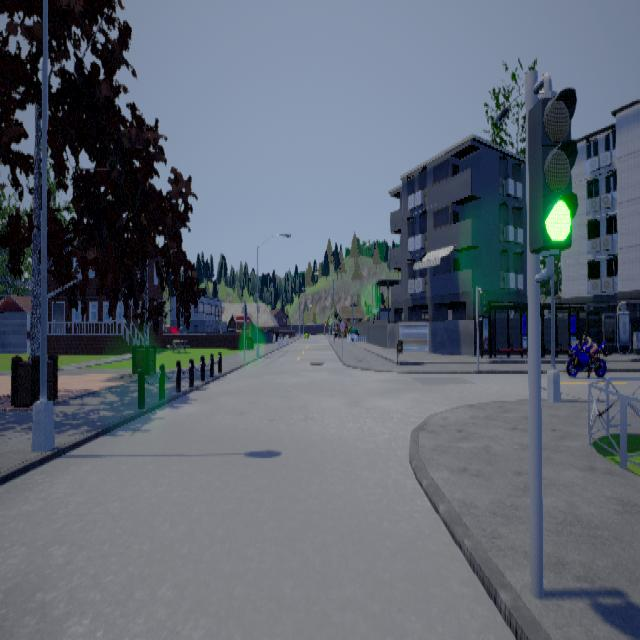green_light: (527, 71, 578, 281)
motobike: (565, 338, 607, 376)
